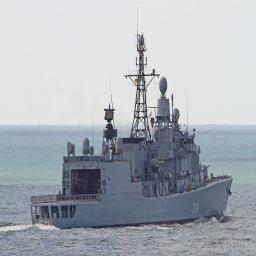Fragata: (31, 19, 235, 233)
